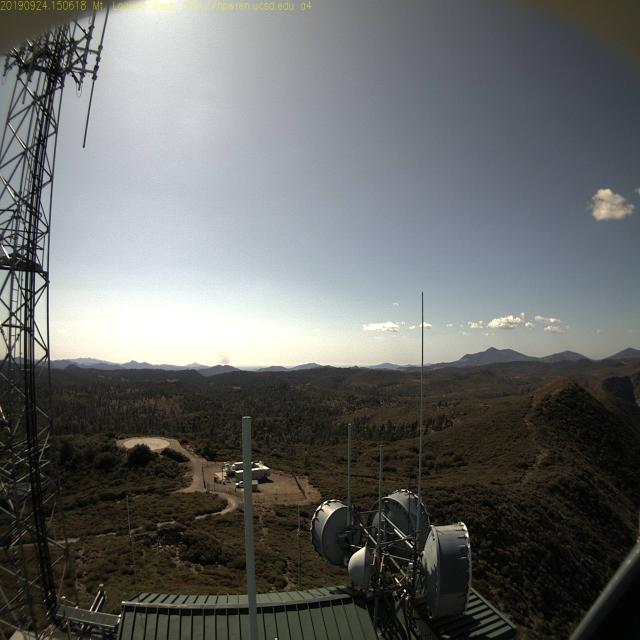smoke: (215, 346, 233, 369)
